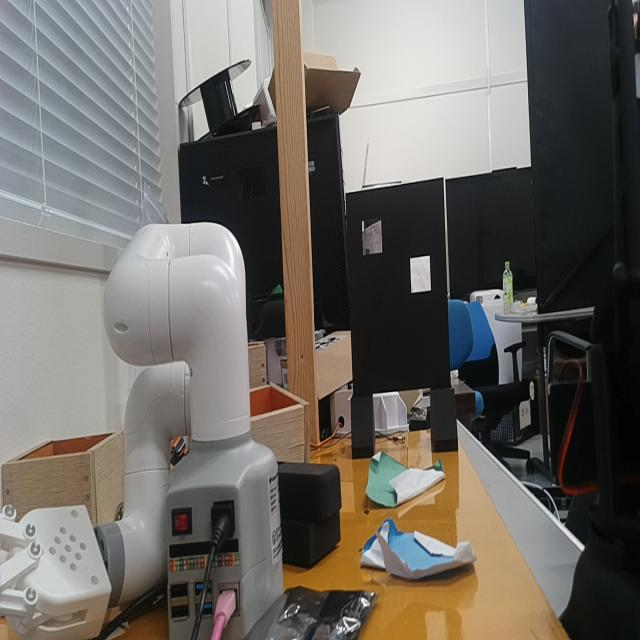Obstacle: (362, 213, 383, 257), (410, 255, 431, 292)
Wall: (347, 179, 451, 397)
